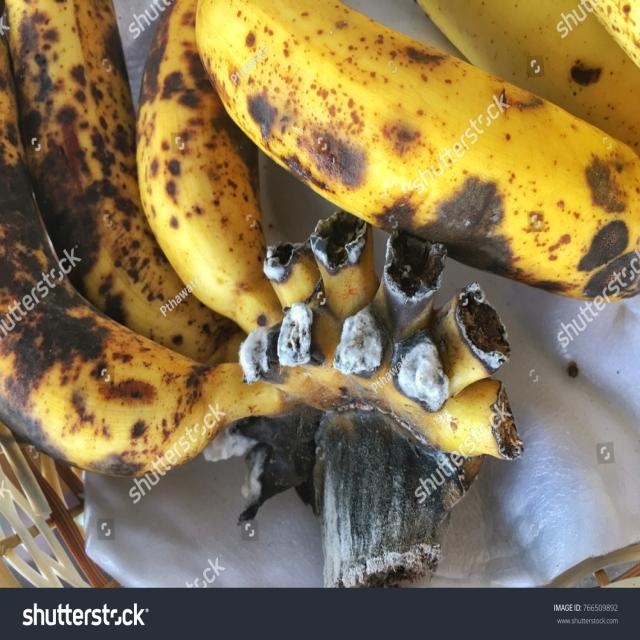banana_peel: (160, 1, 640, 311)
